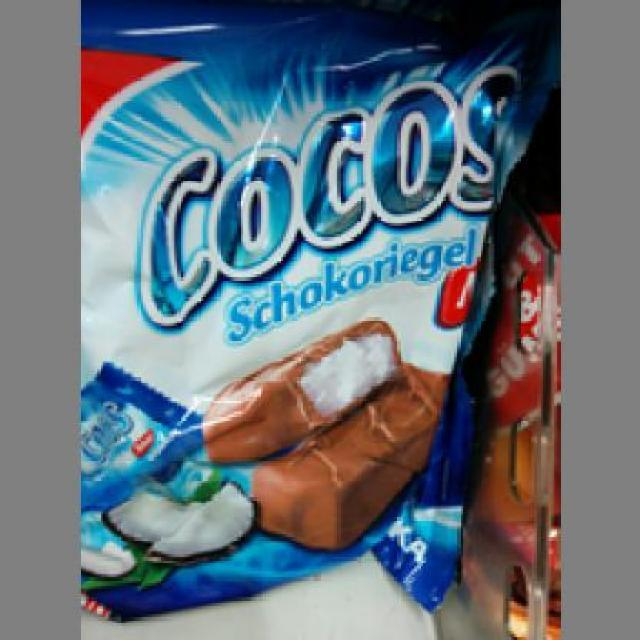Chocolate: (80, 6, 520, 603)
